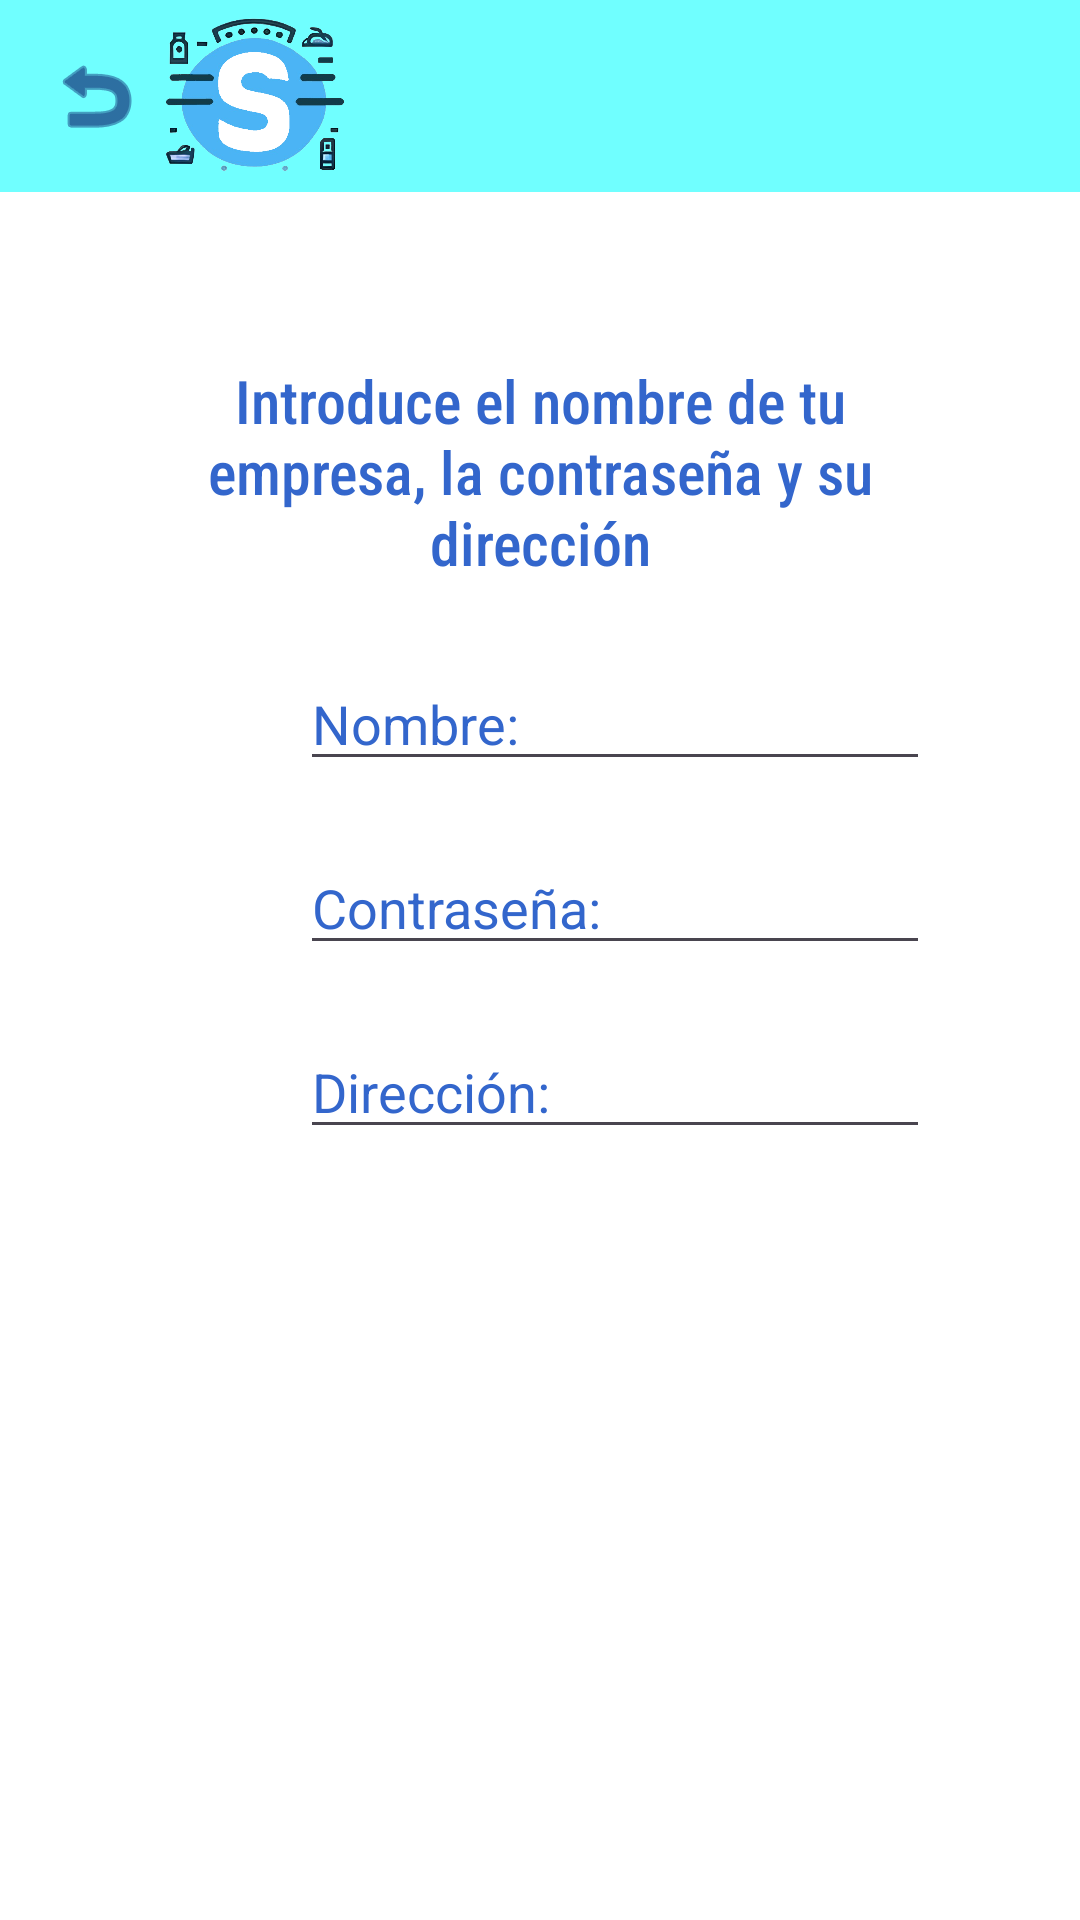

Named icons in this screenshot (1080w x 1920h) and their centers, (x=x, y=y):
revert: (x=97, y=96)
